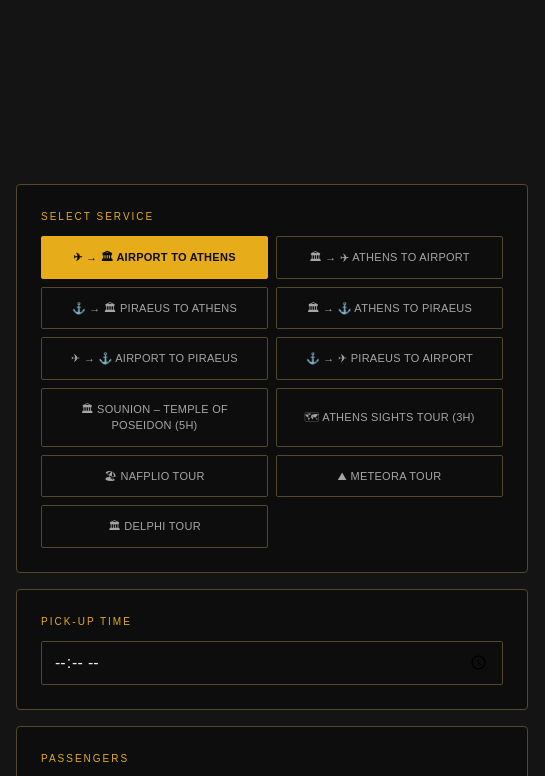
Test case: unchanged calculator fares and customer-initiated email drafts › keeps the athens_sights fixed fare at €180
Step 1. Click the button "🗺 Athens Sights Tour (3h)" → (390, 417), box [276, 388, 503, 446]
(page scrolled)
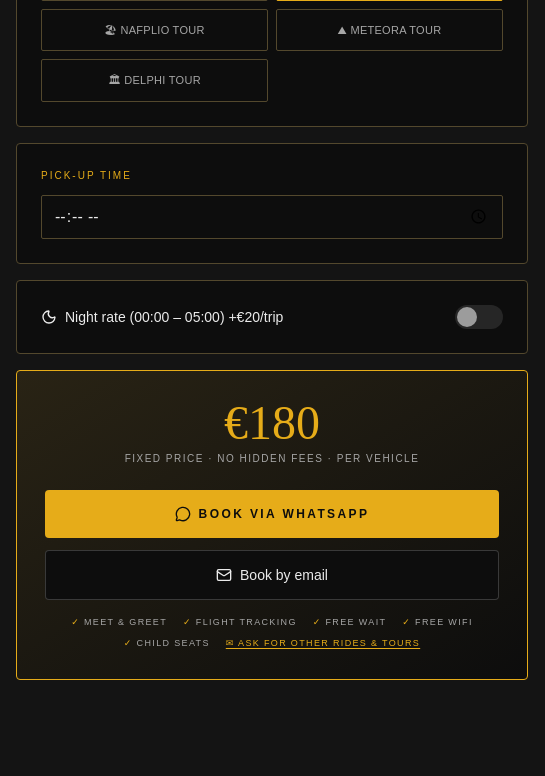
Expected: the text "€180" is shown, [224, 396, 320, 448]
